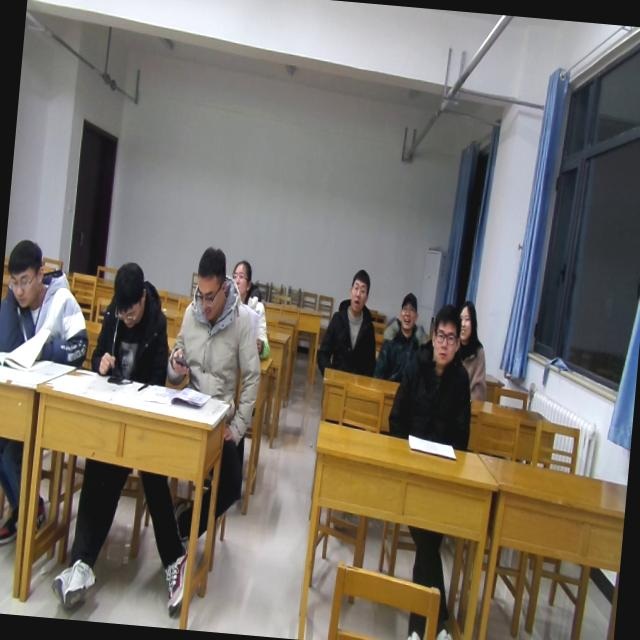bow: (0, 238, 97, 370)
down: (0, 231, 48, 312), (186, 240, 232, 324), (106, 252, 150, 329)
lookup: (422, 300, 463, 369), (342, 262, 374, 316), (454, 295, 480, 348), (394, 286, 422, 331), (228, 253, 256, 297)
sit: (163, 243, 270, 401), (384, 298, 484, 450), (88, 259, 175, 388), (315, 266, 386, 380), (222, 257, 280, 362), (374, 291, 432, 384), (450, 298, 495, 401)
